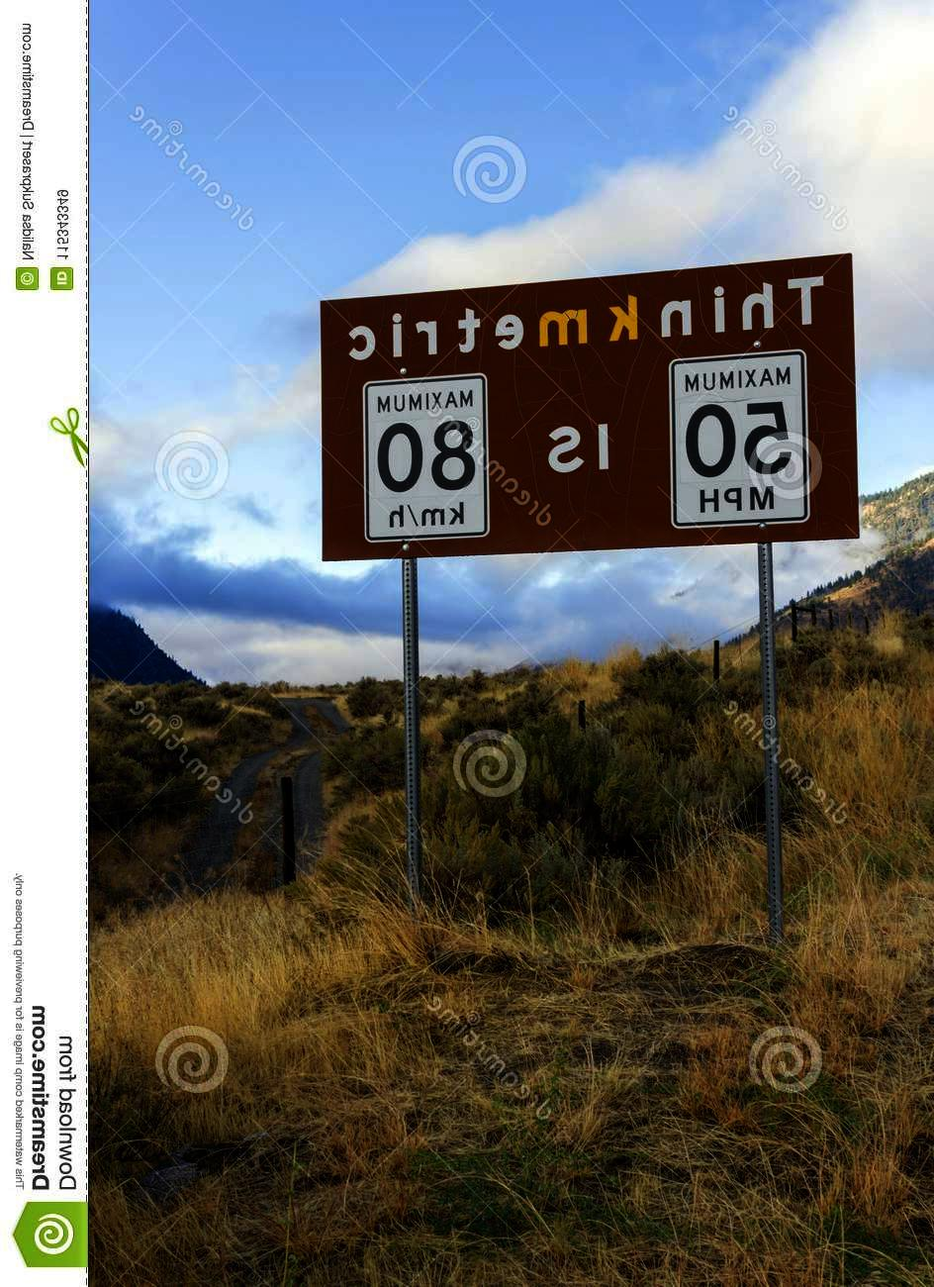speed limit sign: (667, 350, 812, 531), (360, 371, 491, 544)
